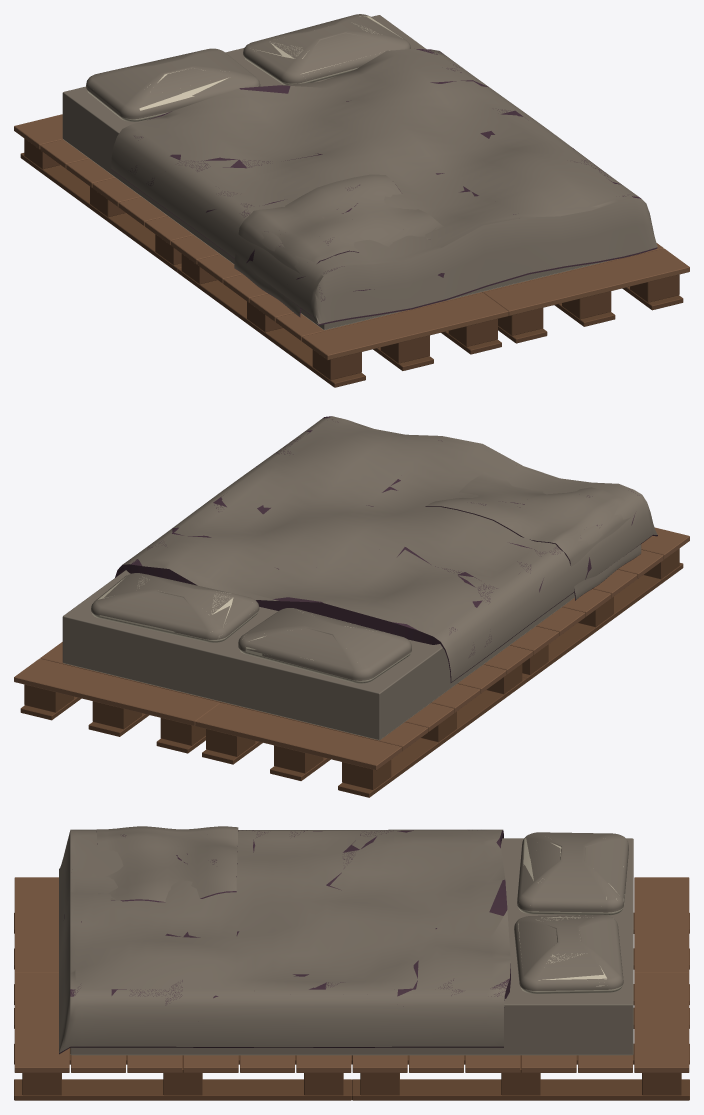
File: pallet-bed-7f5b5b05408b.glb
The picture shows the model from 3 angles, top to bottom: view 1: azimuth 30°, elevation 25°; view 2: azimuth 150°, elevation 25°; view 3: azimuth 270°, elevation 25°; orthographic projection. The views are drawn at different scales.
Parts seen in each view (by area): view 1: cover-cloth, wood-walnut, wood-walnut-dark, cloth-plum, cloth-cream; view 2: cover-cloth, wood-walnut, wood-walnut-dark, cloth-plum, cloth-cream; view 3: cover-cloth, wood-walnut, wood-walnut-dark, cloth-plum, cloth-cream.
Part boxes in pixels (x1,y1,x2,y2): cover-cloth: (62, 14, 657, 329); wood-walnut: (14, 114, 689, 360); wood-walnut-dark: (20, 138, 683, 387); cloth-plum: (111, 49, 657, 325); cloth-cream: (63, 16, 612, 330); cover-cloth: (62, 416, 657, 739); wood-walnut: (14, 527, 689, 770); wood-walnut-dark: (20, 548, 683, 797); cloth-plum: (115, 416, 657, 682); cloth-cream: (63, 576, 574, 740); cover-cloth: (59, 826, 633, 1054); wood-walnut: (14, 877, 689, 1072); wood-walnut-dark: (14, 913, 689, 1100); cloth-plum: (59, 830, 510, 1054); cloth-cream: (70, 838, 633, 1055).
Size of the model in its own units: 1.6 by 0.454 by 2.4.
